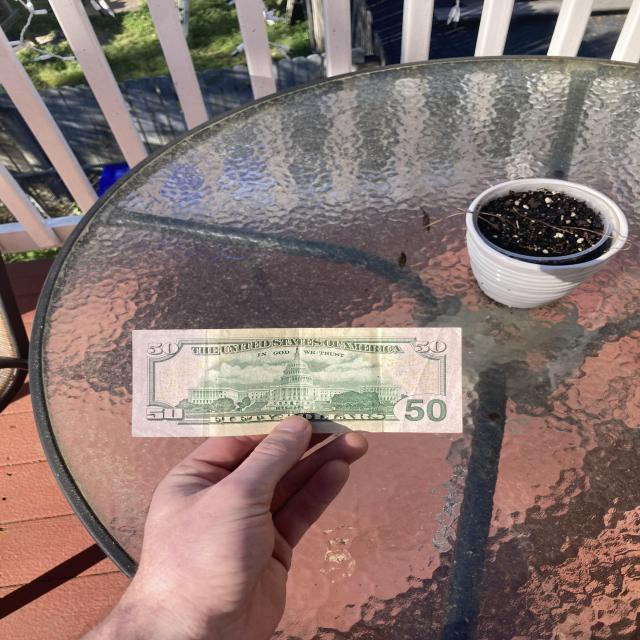fifty: (131, 328, 464, 434)
